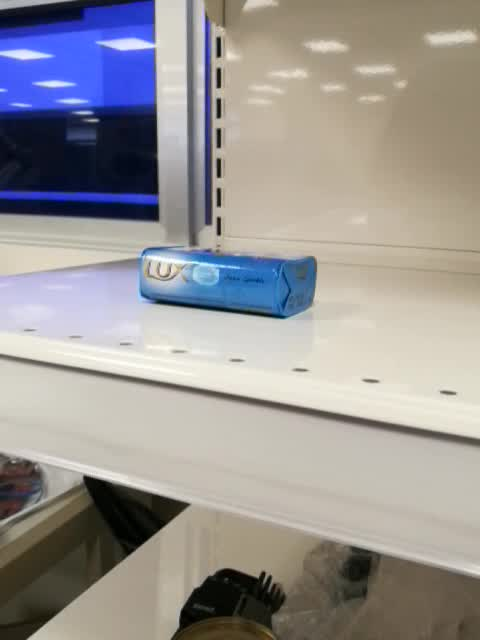soap: (139, 246, 319, 321)
